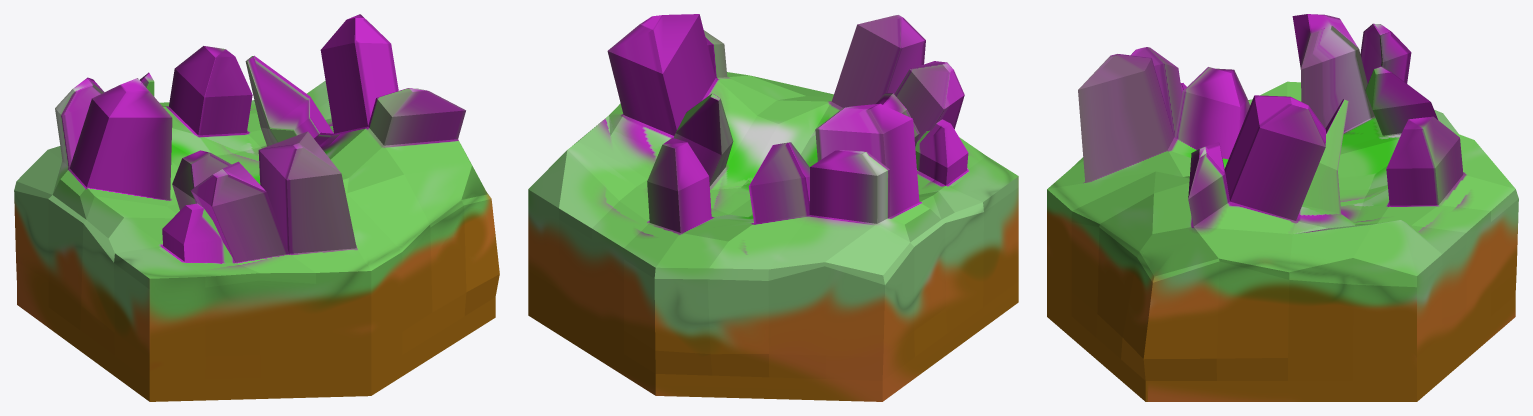
The model's file is tile_rock.gltf.
3 renders of one model, left to right at view 1: azimuth 30°, elevation 25°; view 2: azimuth 150°, elevation 25°; view 3: azimuth 270°, elevation 25°, orthographic. The views are drawn at different scales.
Parts seen in each view (by area): view 1: rock; view 2: rock; view 3: rock.
Boxes of the visible parts, <box> form: rock: <box>14,14,499,401</box>; rock: <box>528,14,1018,401</box>; rock: <box>1047,14,1518,401</box>.
Bounding box in the file's own units: 1.63 × 1.18 × 1.85.
1 material, 1 textured.
